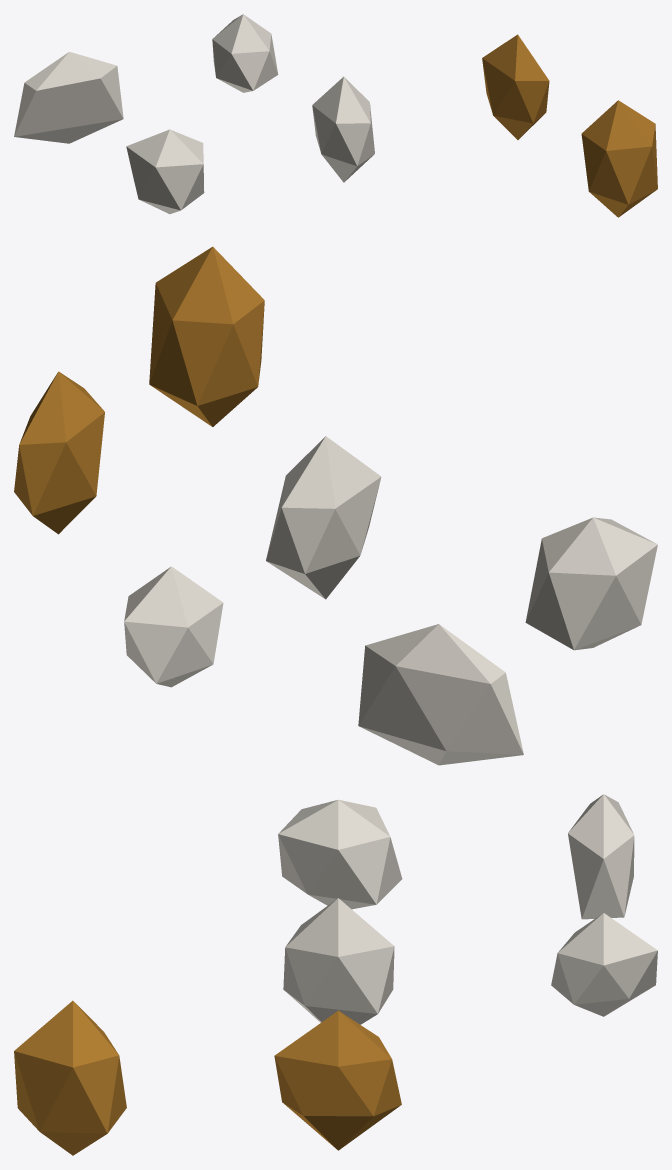
The model's file is shards.glb.
3 renders of one model, top to bottom at view 1: azimuth 30°, elevation 25°; view 2: azimuth 150°, elevation 25°; view 3: azimuth 270°, elevation 25°, orthographic. The views are drawn at different scales.
Visible parts, largest first — view 1: shard_4, shard_0, shard_1, shard_3, shard_2, shard_5; view 2: shard_4, shard_0, shard_1, shard_2, shard_3, shard_5; view 3: shard_0, shard_3, shard_1, shard_2, shard_5, shard_4.
Part boxes in pixels (x1=…): shard_4: x1=14, y1=51, x2=123, y2=143; shard_0: x1=581, y1=100, x2=657, y2=217; shard_1: x1=126, y1=129, x2=204, y2=214; shard_3: x1=482, y1=34, x2=549, y2=139; shard_2: x1=312, y1=76, x2=374, y2=182; shard_5: x1=212, y1=14, x2=278, y2=92; shard_4: x1=358, y1=624, x2=523, y2=765; shard_0: x1=149, y1=246, x2=264, y2=426; shard_1: x1=525, y1=517, x2=657, y2=650; shard_2: x1=266, y1=436, x2=381, y2=599; shard_3: x1=14, y1=371, x2=104, y2=534; shard_5: x1=124, y1=566, x2=223, y2=687; shard_0: x1=14, y1=1000, x2=126, y2=1155; shard_3: x1=274, y1=1010, x2=401, y2=1150; shard_1: x1=278, y1=799, x2=402, y2=909; shard_2: x1=283, y1=898, x2=394, y2=1024; shard_5: x1=551, y1=913, x2=657, y2=1016; shard_4: x1=568, y1=794, x2=634, y2=919.
Size of the model in its own units: 7.6 by 1.94 by 7.28.
